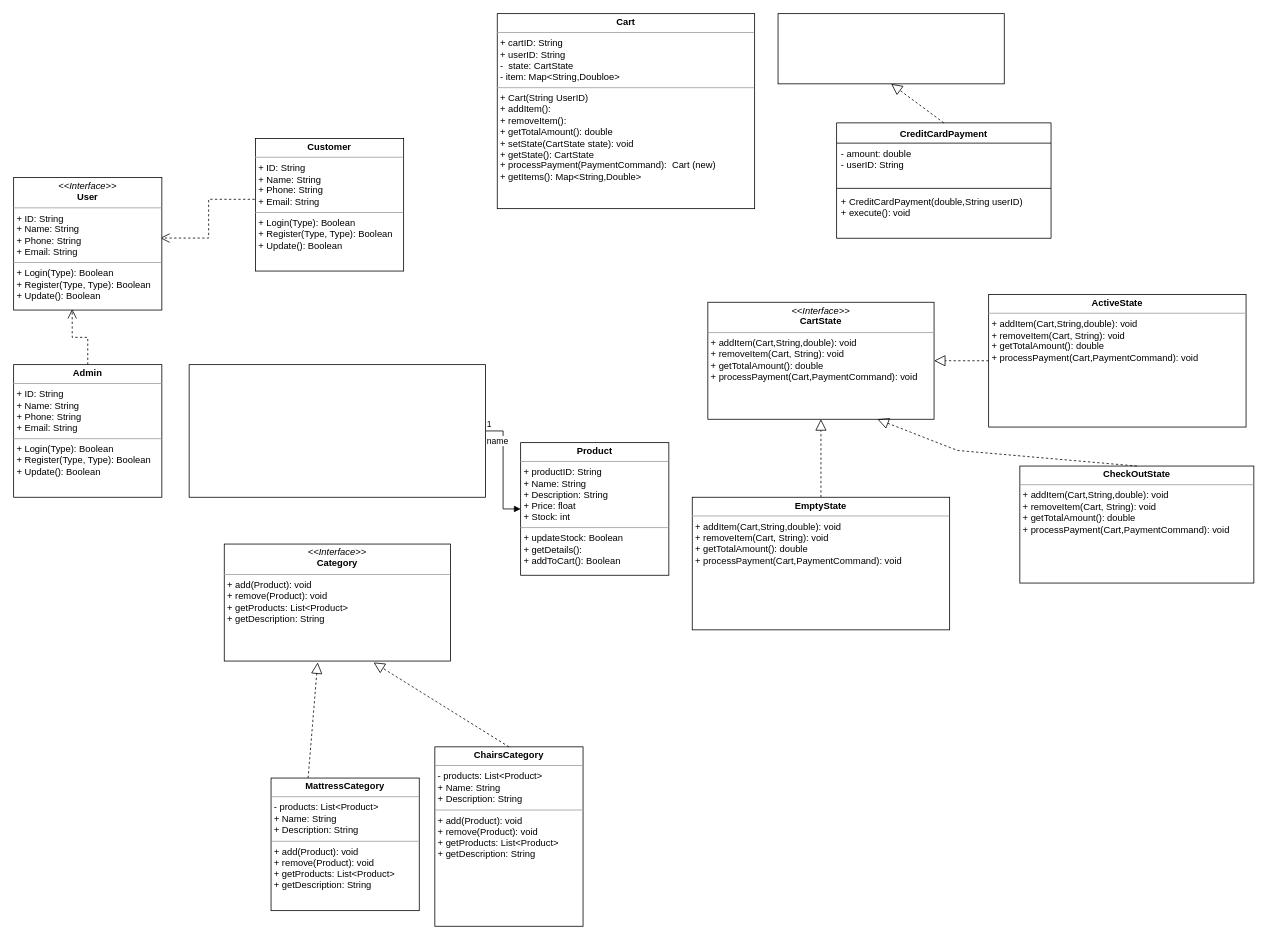
This 1268x940 diagram has some shape labels left out. Each missing label, with the centre of its shape:
"<<Interface>> PaymentCommand + execute(): void" goes at point (890, 48).
"ProductFactory + Static CreateProduct(Category,String,double): Product" goes at point (337, 430).
